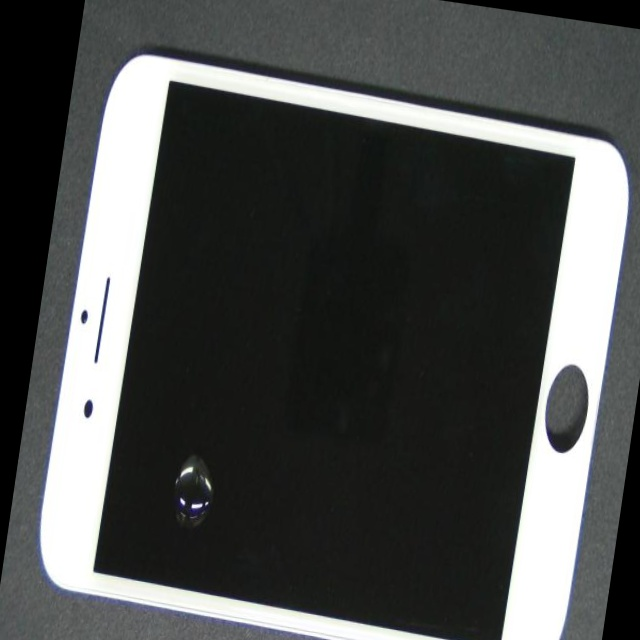oil: (90, 238, 357, 640)
